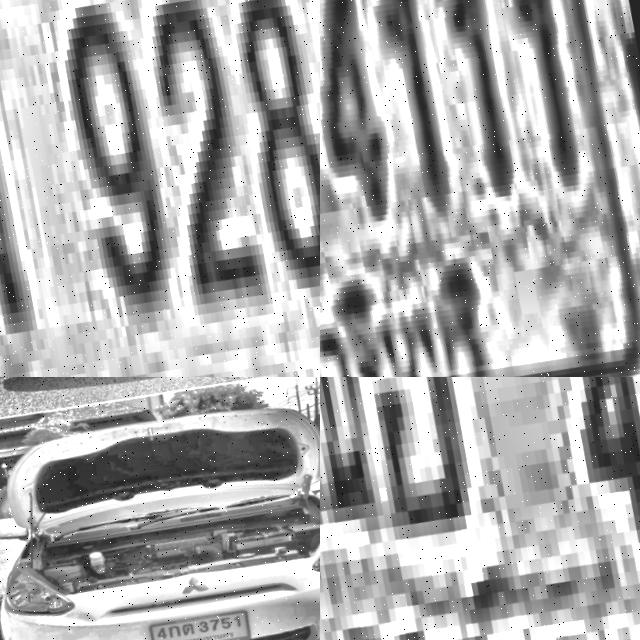license-plate: (0, 0, 320, 377), (320, 0, 640, 377), (320, 377, 640, 640), (149, 591, 262, 640)
